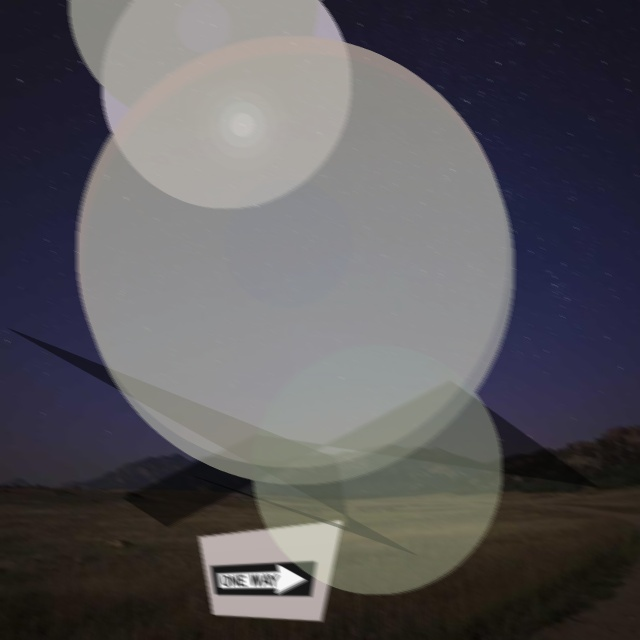ONE_WAY_ right: (210, 561, 315, 596)
